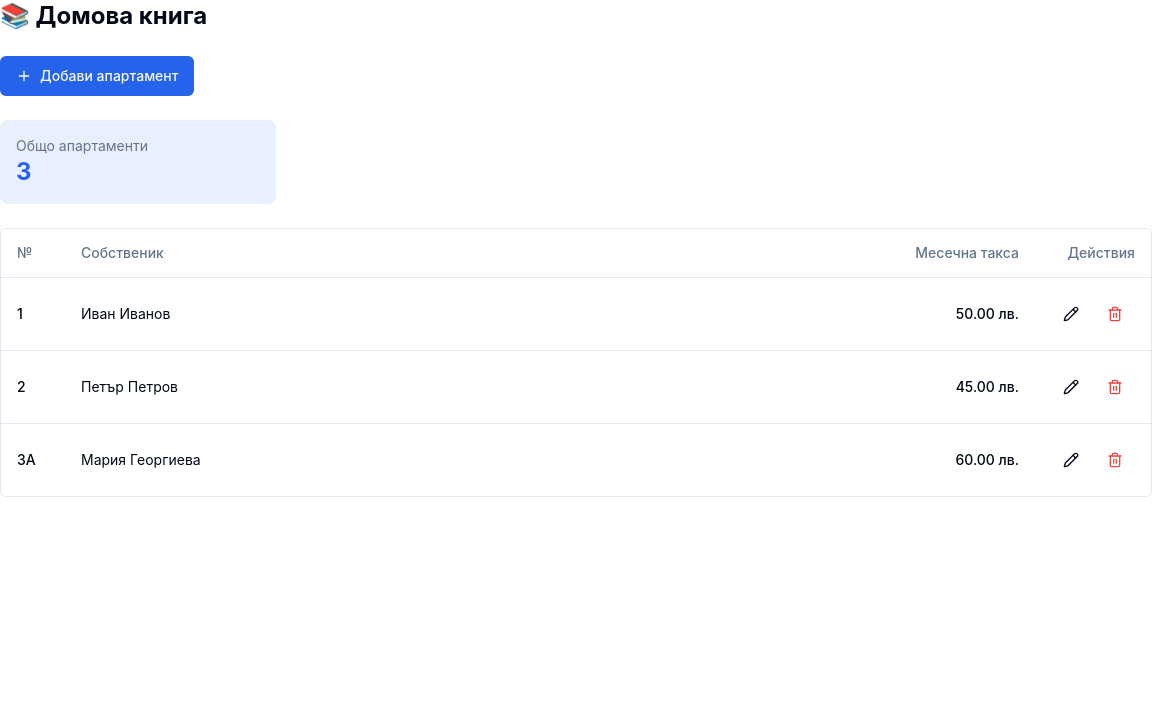
Test case: Apartments Page › Add Apartment Button › should open dialog when add button is clicked
This screenshot has width=1152, height=720.
Expected: the heading "📚 Домова книга" is shown, 0,1 -> 207,30
// Click add button
Click the button "Добави апартамент": (97, 76) 0,56 -> 194,96
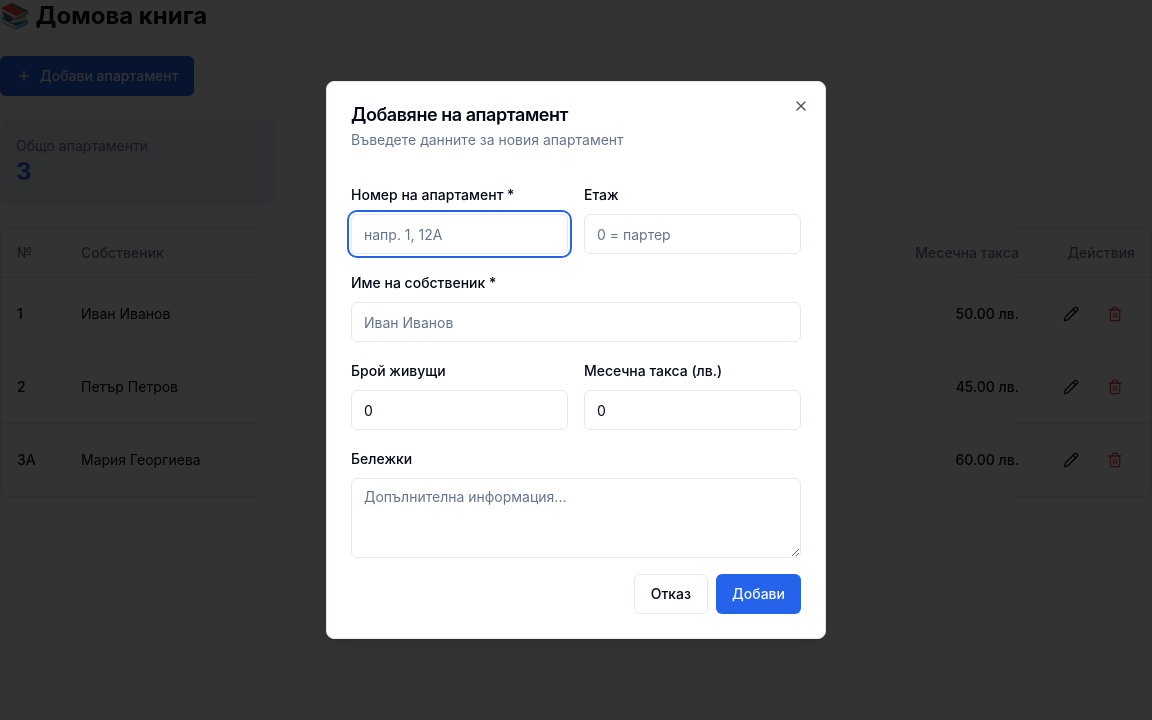
Expected: the heading "Добавяне на апартамент" is shown, 351,104 -> 568,125
